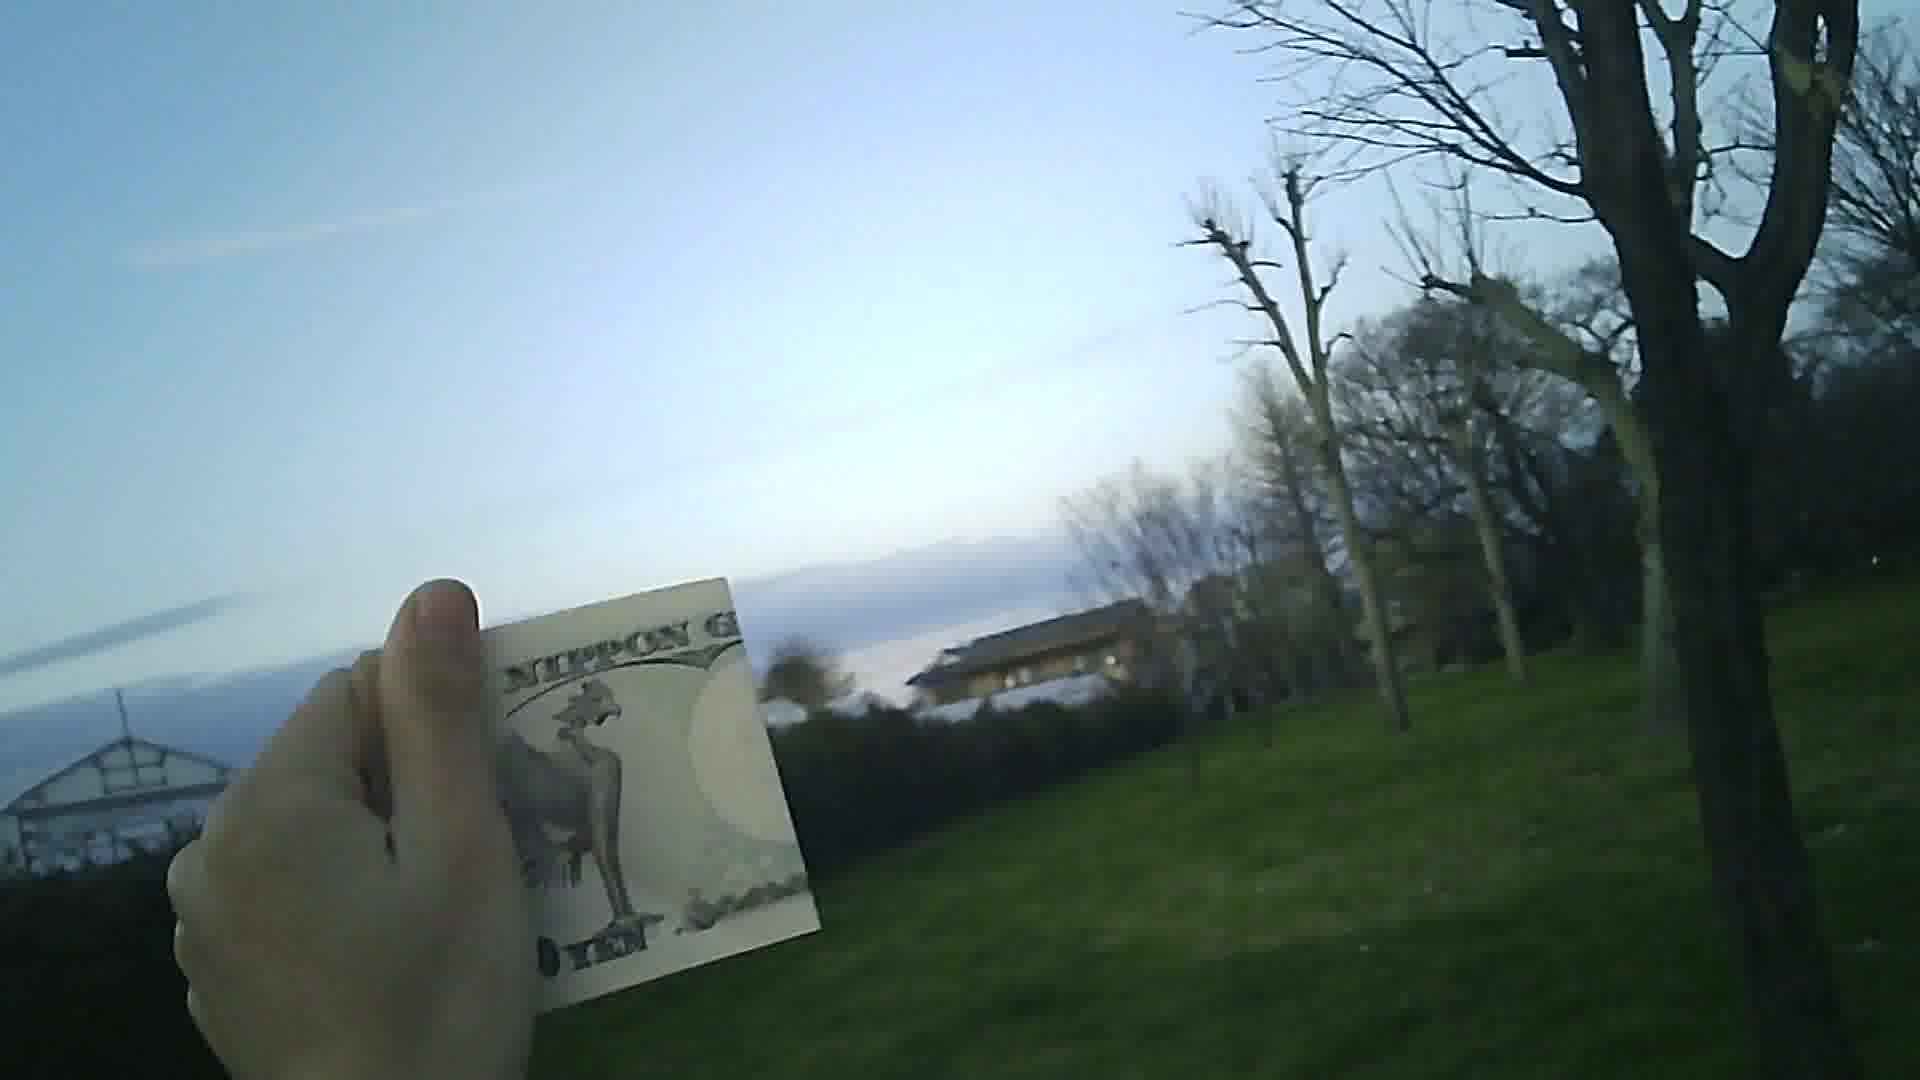10,000 Yen: (364, 545, 823, 1044)
